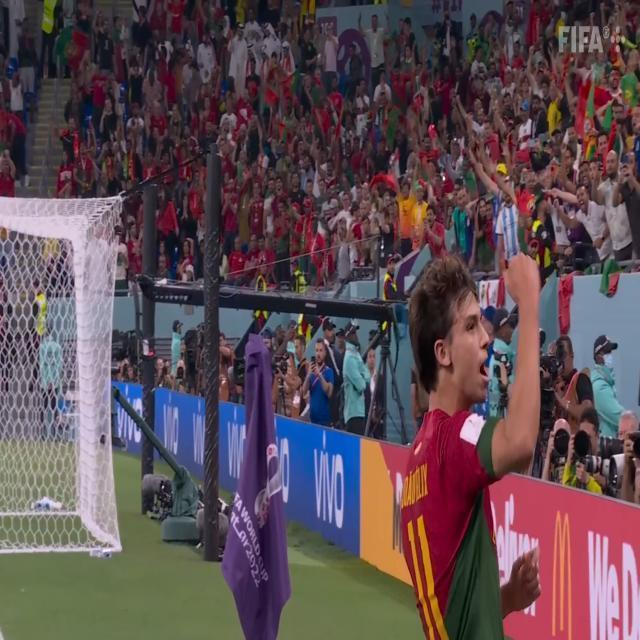player: (397, 235, 555, 640)
